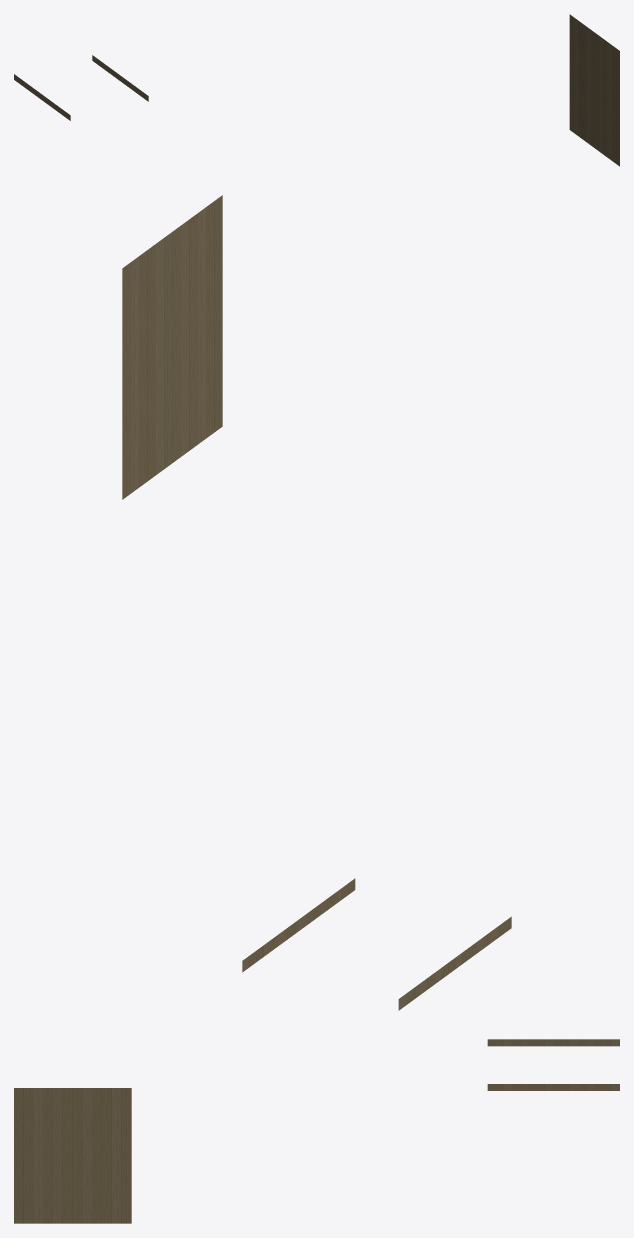
Rendered from kd_stage_135c43_4_73.glb.
3 renders of one model, top to bottom at view 1: azimuth 30°, elevation 25°; view 2: azimuth 150°, elevation 25°; view 3: azimuth 270°, elevation 25°, orthographic. The views are drawn at different scales.
Visible parts, largest first — view 1: kd_stage_135c43_4_73; view 2: kd_stage_135c43_4_73; view 3: kd_stage_135c43_4_73.
Part boxes in pixels (box(x1,y1,x2,y2)): kd_stage_135c43_4_73: box(14, 14, 619, 166); kd_stage_135c43_4_73: box(122, 195, 511, 1010); kd_stage_135c43_4_73: box(14, 1039, 619, 1223).
Bounding box in the file's own units: 4.91 × 1.81 × 6.35.
Materials: 1 (1 with a texture image).
